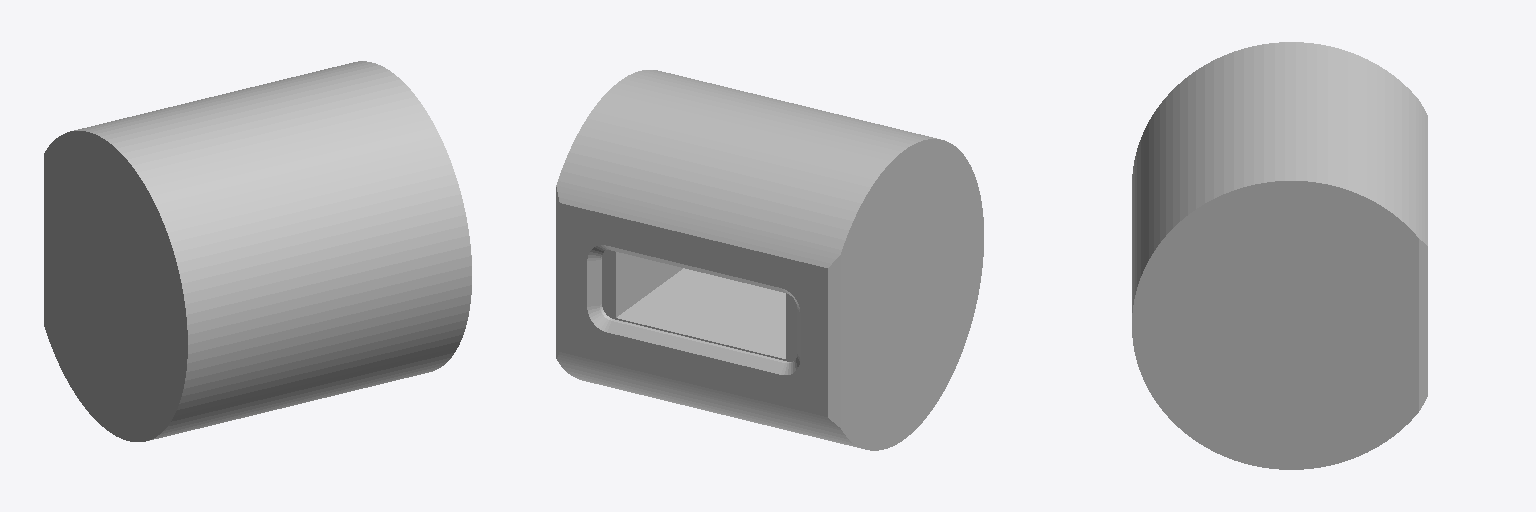
The model's file is gimbal.obj.
The picture shows the model from 3 angles: view 1: azimuth 30°, elevation 25°; view 2: azimuth 150°, elevation 25°; view 3: azimuth 270°, elevation 25°; orthographic projection.
Parts seen in each view (by area): view 1: Gimbal; view 2: Gimbal; view 3: Gimbal.
Part boxes in pixels (x1,y1,x2,y2): Gimbal: (44, 61, 471, 441); Gimbal: (556, 70, 983, 450); Gimbal: (1132, 42, 1427, 469).
Size of the model in its own units: 36 by 34.98 by 32.5.